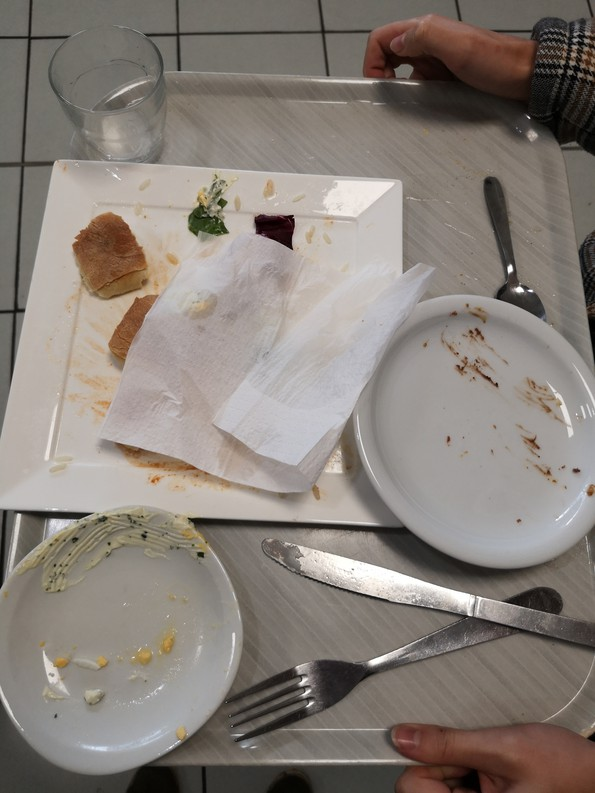cup: (39, 21, 180, 164)
cutlery: (221, 585, 566, 746), (241, 527, 595, 646), (474, 173, 549, 325)
orga: (63, 195, 155, 348)
trash: (149, 239, 396, 495)
